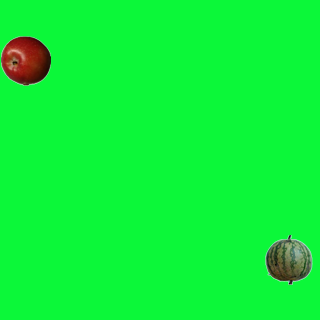Apple Braeburn: (0, 35, 50, 85)
Watermelon: (263, 234, 313, 284)
